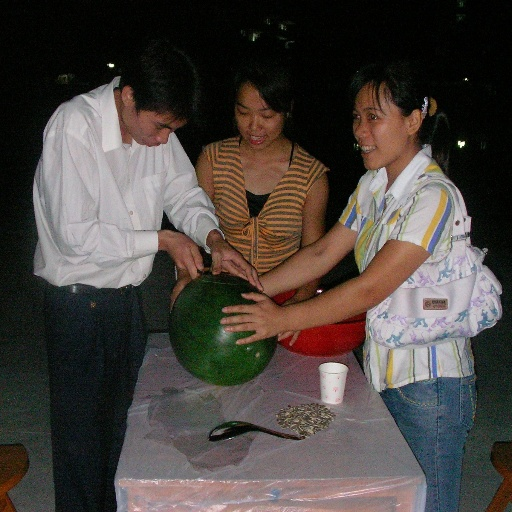hand: (219, 291, 283, 348), (207, 239, 265, 294), (151, 229, 200, 281), (273, 296, 299, 346), (167, 270, 196, 311), (218, 259, 254, 282)
